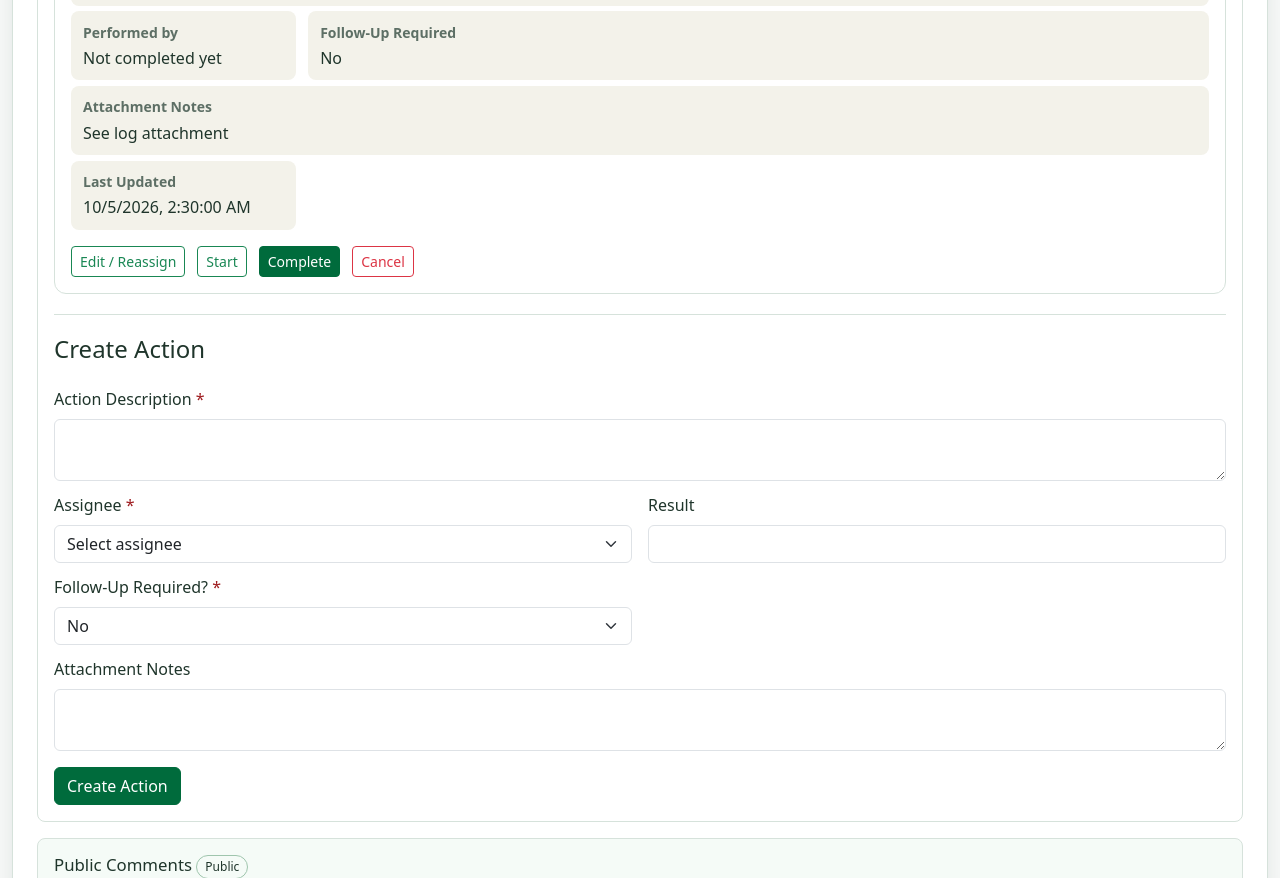
Lab 4 Actions Taken Ticket Detail UI › UI-01 lists current-cycle work and creates an Action with conditional follow-up validation
(page scrolled)
Expected: the text "See log attachment" is shown, [83, 122, 228, 144]
Type "Replace VPN profile" into the text box labelled "Action Description *" at [640, 450], box [54, 419, 1226, 481]
Select "Lab 4 Staff (IT Staff)" in the dropdown labelled "Assignee *" at [343, 544], box [54, 525, 632, 563]
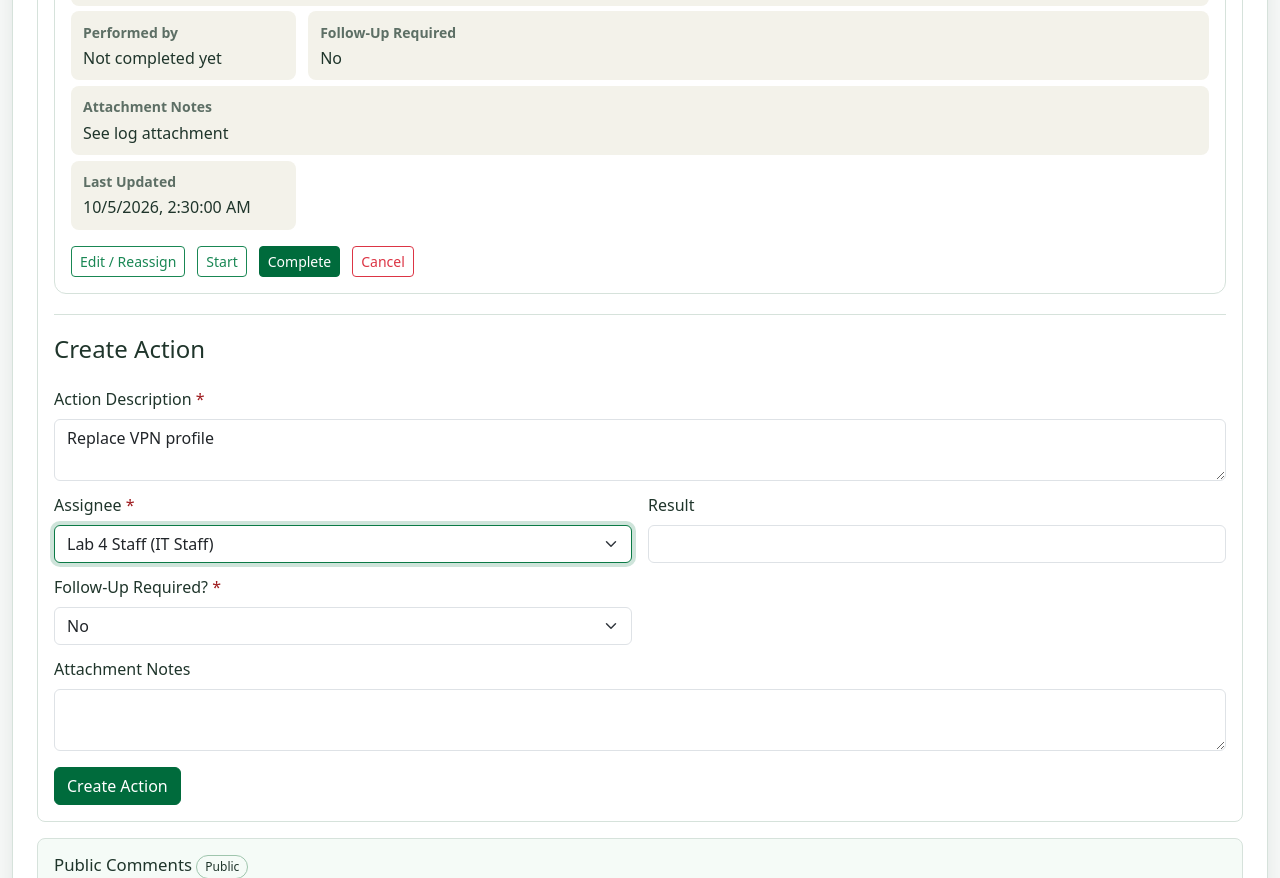
Select "Yes" in the dropdown labelled "Follow-Up Required? *" at [343, 626], box [54, 607, 632, 645]
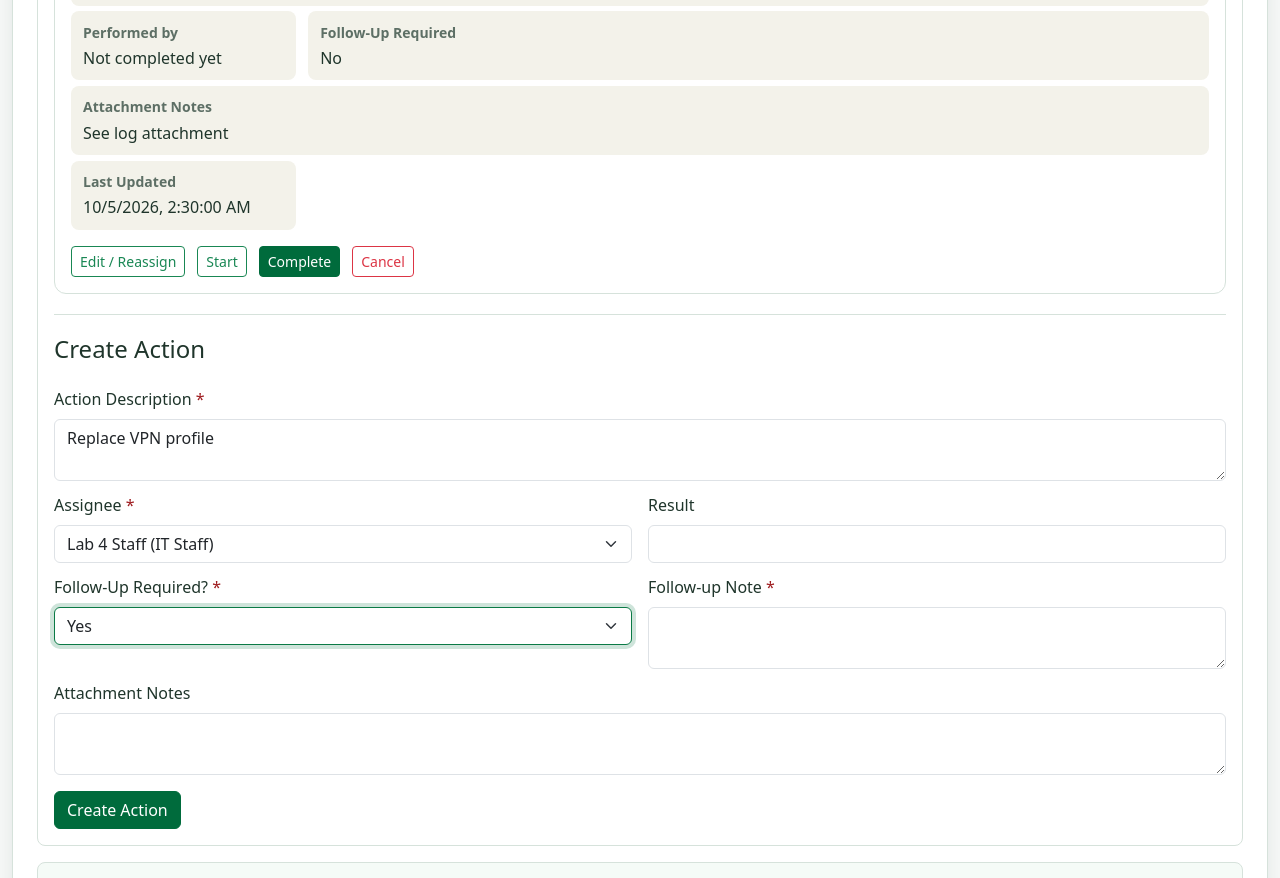
Click the button "Create Action" at [117, 810], box [54, 791, 181, 829]
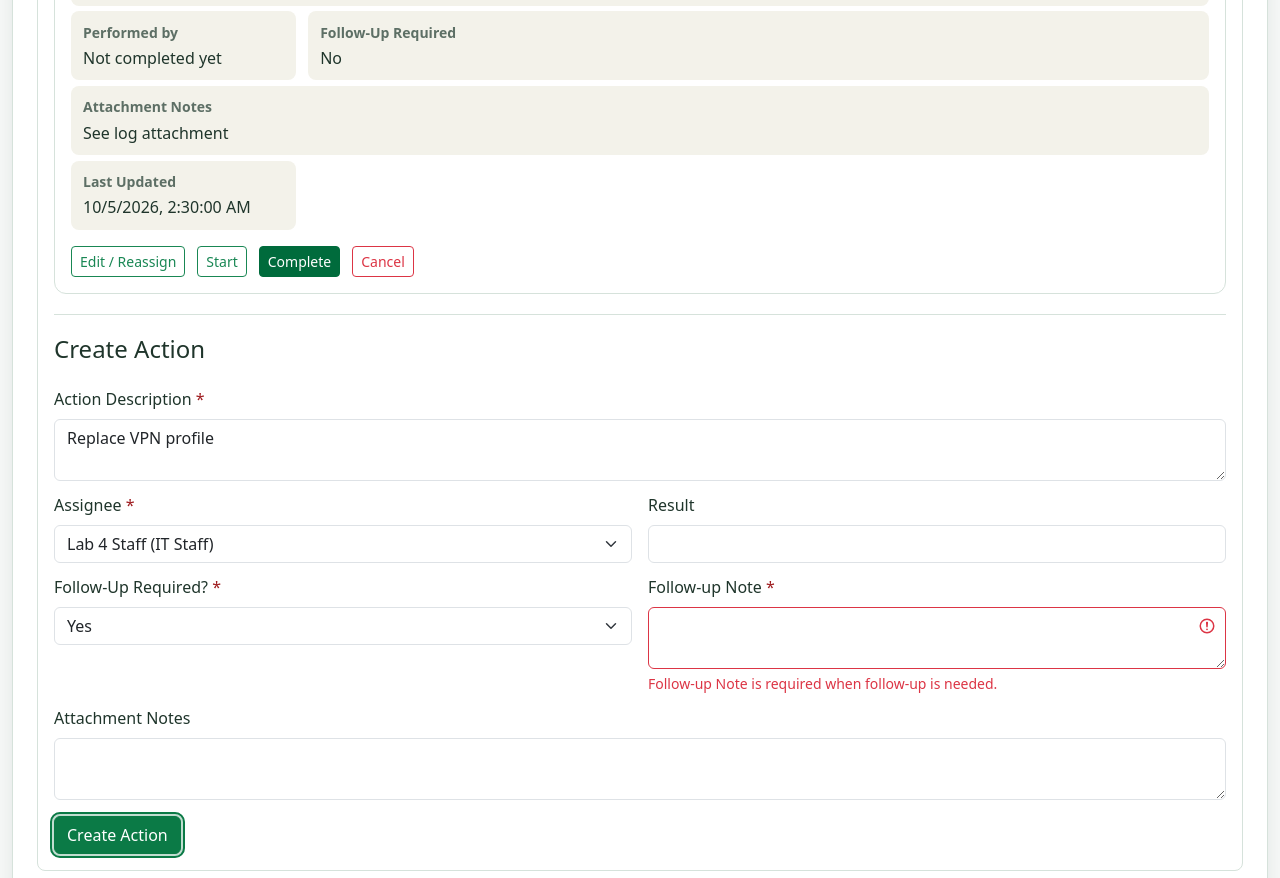
Expected: the text "Follow-up Note is required when follow-up is needed." is shown, [648, 674, 997, 693]
Type "Retest tomorrow" into the text box labelled "Follow-up Note *" at [937, 638], box [648, 607, 1226, 669]
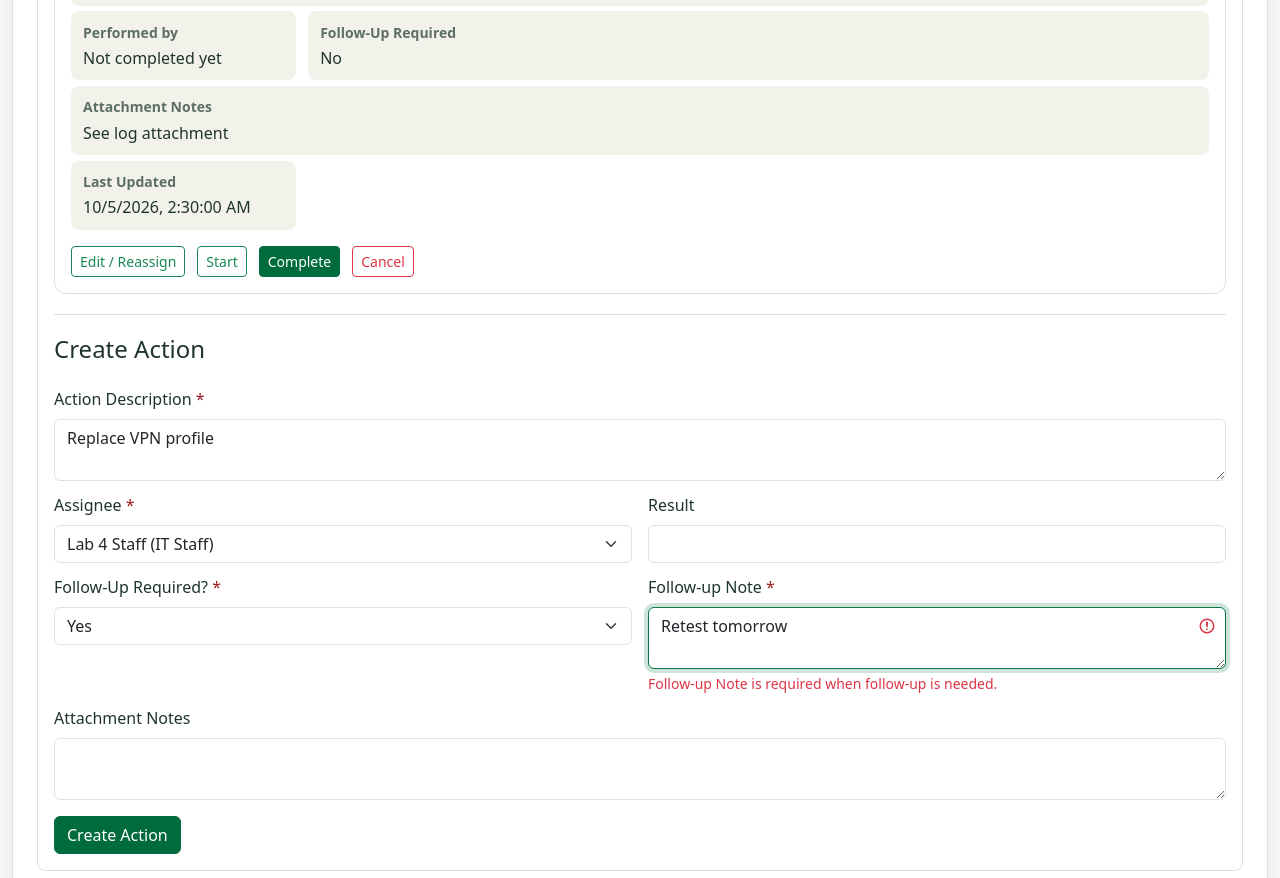
Type "Use profile screenshot" into the text box labelled "Attachment Notes" at [640, 769], box [54, 738, 1226, 800]
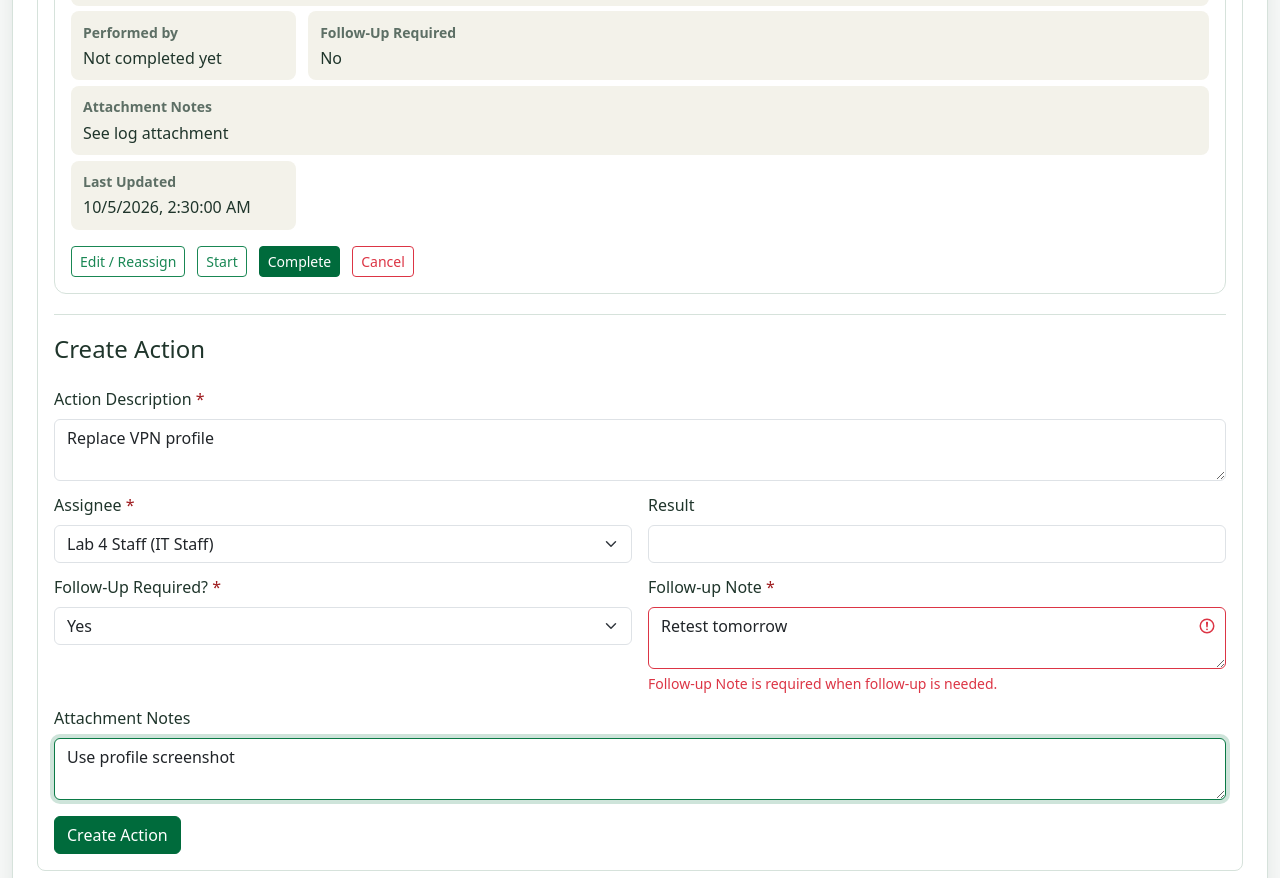
Click the button "Create Action" at [117, 835], box [54, 816, 181, 854]
(page scrolled)
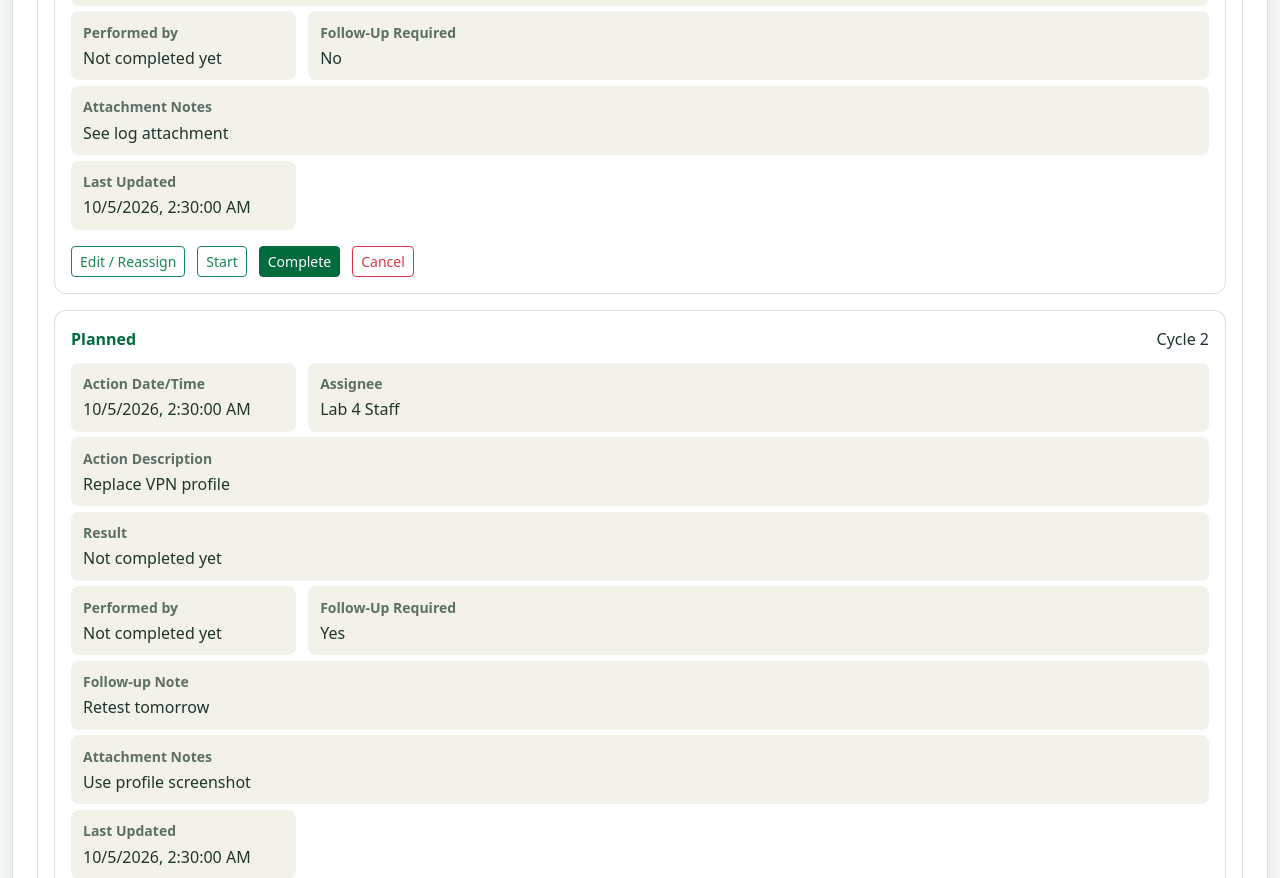
Expected: the text "Replace VPN profile" is shown, [83, 473, 230, 495]
